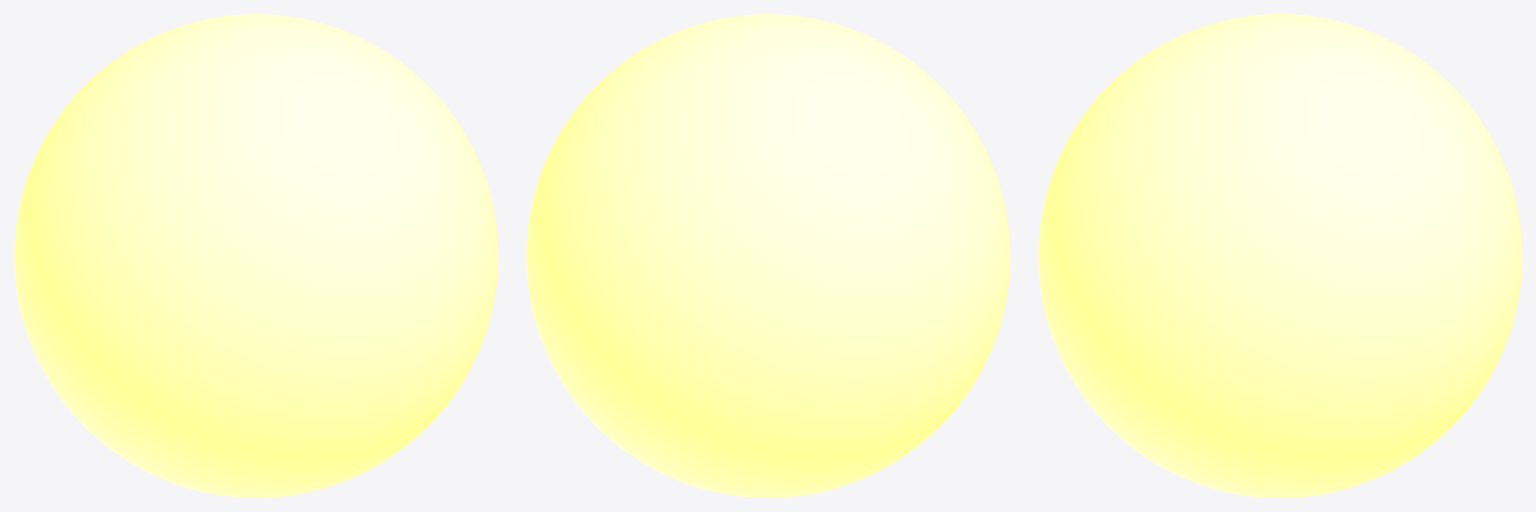
Rendered from castor.dae.
3 views of the same model, side by side, from view 1: azimuth 30°, elevation 25°; view 2: azimuth 150°, elevation 25°; view 3: azimuth 270°, elevation 25° (orthographic).
Parts seen in each view (by area): view 1: ID2; view 2: ID2; view 3: ID2.
Boxes of the visible parts, <box> form: ID2: <box>14,14,497,497</box>; ID2: <box>526,14,1009,497</box>; ID2: <box>1038,14,1521,497</box>.
Bounding box in the file's own units: 0.05 × 0.05 × 0.0499.
